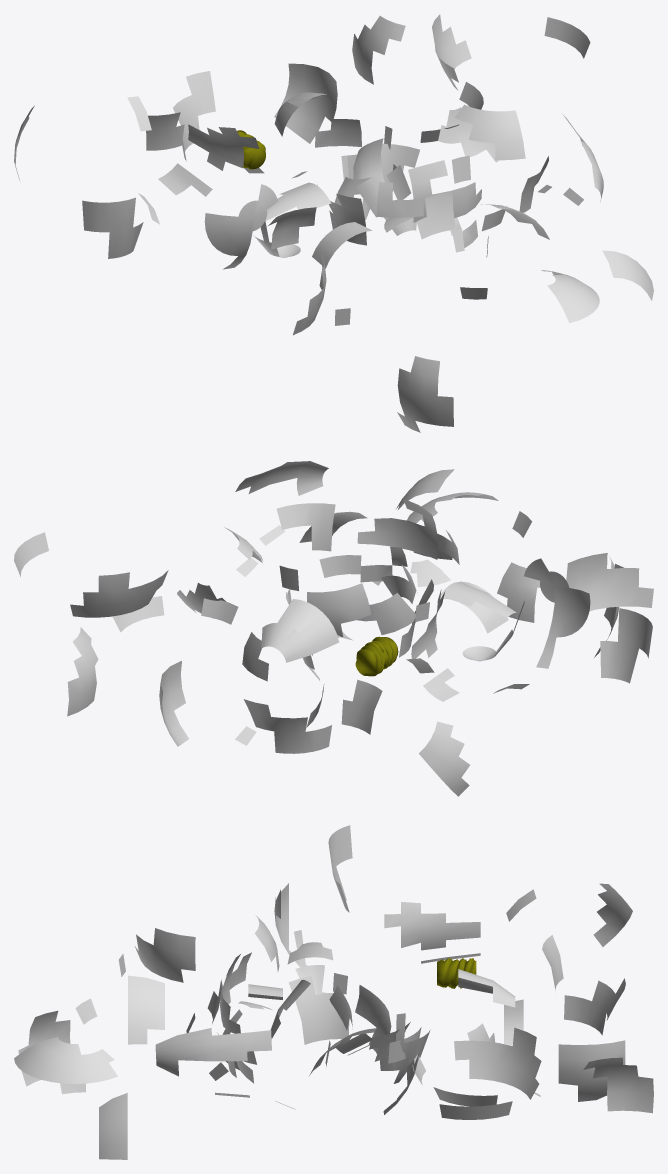
Rendered from broken lightbulb.fbx.
The picture shows the model from 3 angles, top to bottom: view 1: azimuth 30°, elevation 25°; view 2: azimuth 150°, elevation 25°; view 3: azimuth 270°, elevation 25°; orthographic projection.
Visible parts, largest first — view 1: Sphere.016; view 2: Sphere.016, Cylinder; view 3: Sphere.016, Cylinder.
Part boxes in pixels (x1,y1,x2,y2): Sphere.016: [14, 14, 653, 432]; Sphere.016: [14, 461, 653, 796]; Cylinder: [355, 636, 398, 676]; Sphere.016: [14, 825, 653, 1159]; Cylinder: [437, 958, 476, 988].
Size of the model in its own units: 747 by 236 by 742.
